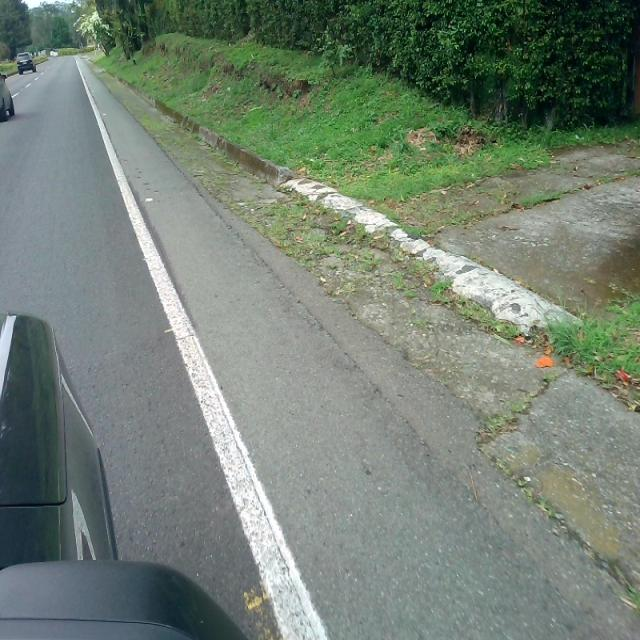DITCH: (11, 31, 638, 638), (76, 52, 639, 631)
